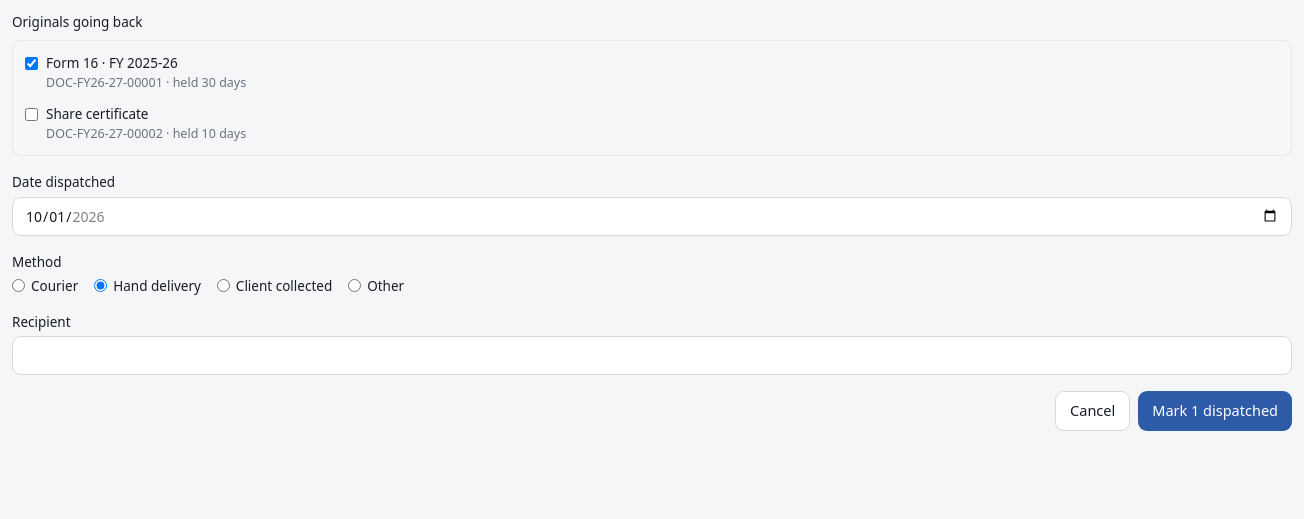
Test: DispatchForm (AC-8, AC-9) › shows field errors from the server next to their fields
Click the button "Mark 1 dispatched".
click(1215, 411)  # box [1138,391,1292,431]
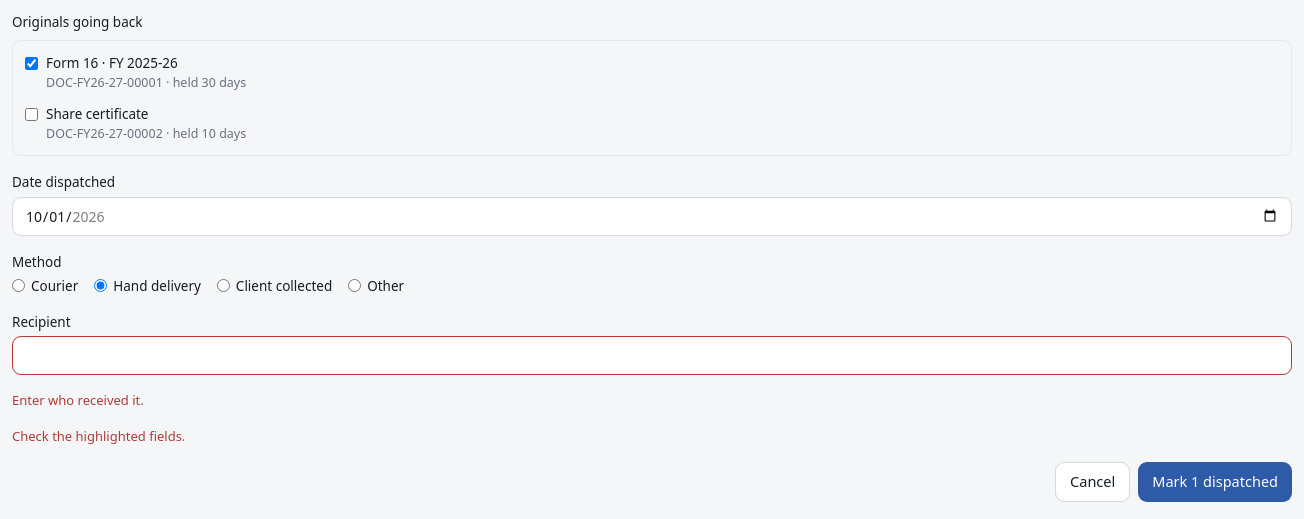
Check: the text "Enter who received it." is shown, box [12,391,144,409]
